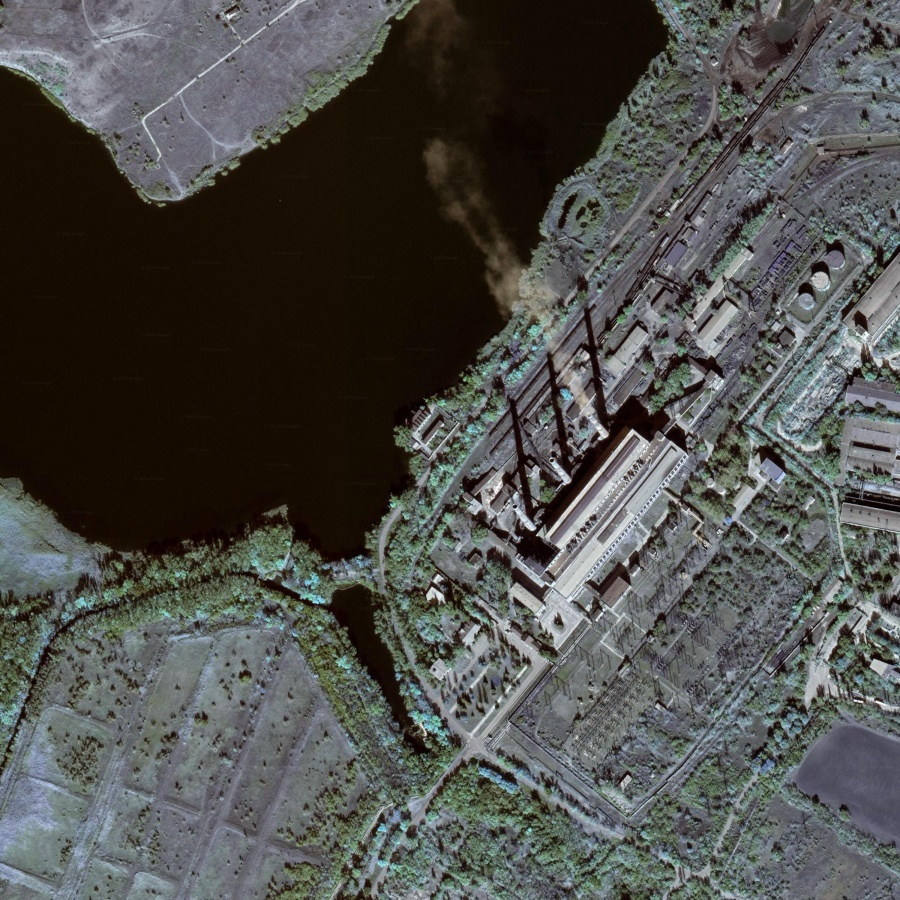PowerPlant: (472, 227, 837, 584)
